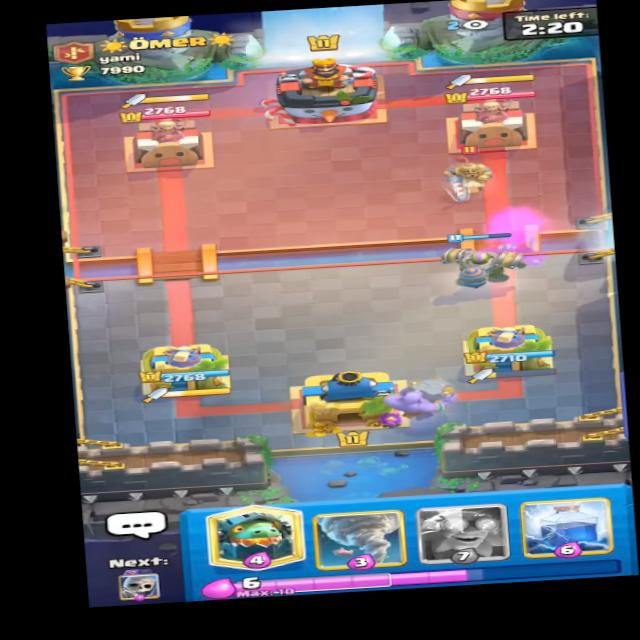prince: (431, 147, 497, 208)
